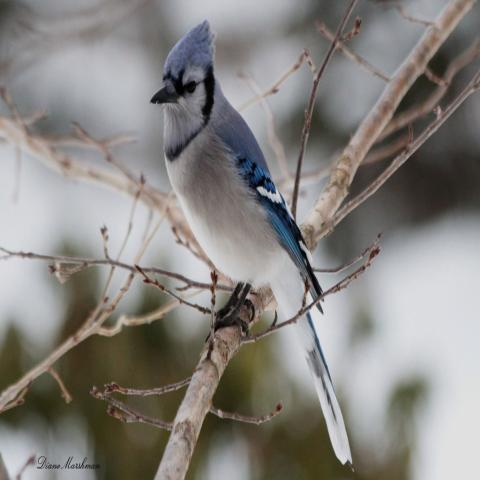bird: (146, 18, 356, 472)
